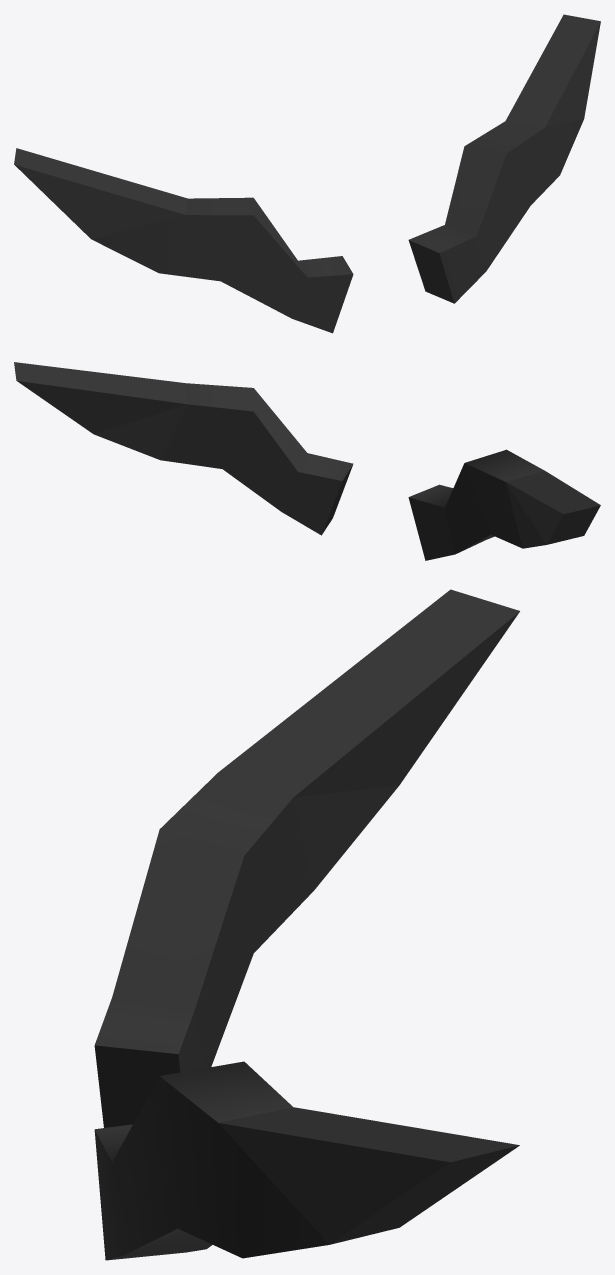
File: Brow_Black_11.fbx
The picture shows the model from 3 angles, top to bottom: view 1: azimuth 30°, elevation 25°; view 2: azimuth 150°, elevation 25°; view 3: azimuth 270°, elevation 25°; orthographic projection. The views are drawn at different scales.
Visible parts, largest first — view 1: Brow_Black_11; view 2: Brow_Black_11; view 3: Brow_Black_11.
Part boxes in pixels (x1,y1,x2,y2): Brow_Black_11: [14, 14, 600, 333]; Brow_Black_11: [14, 362, 600, 560]; Brow_Black_11: [94, 589, 519, 1260].
Bounding box in the file's own units: 51.57 × 13.68 × 16.2.
